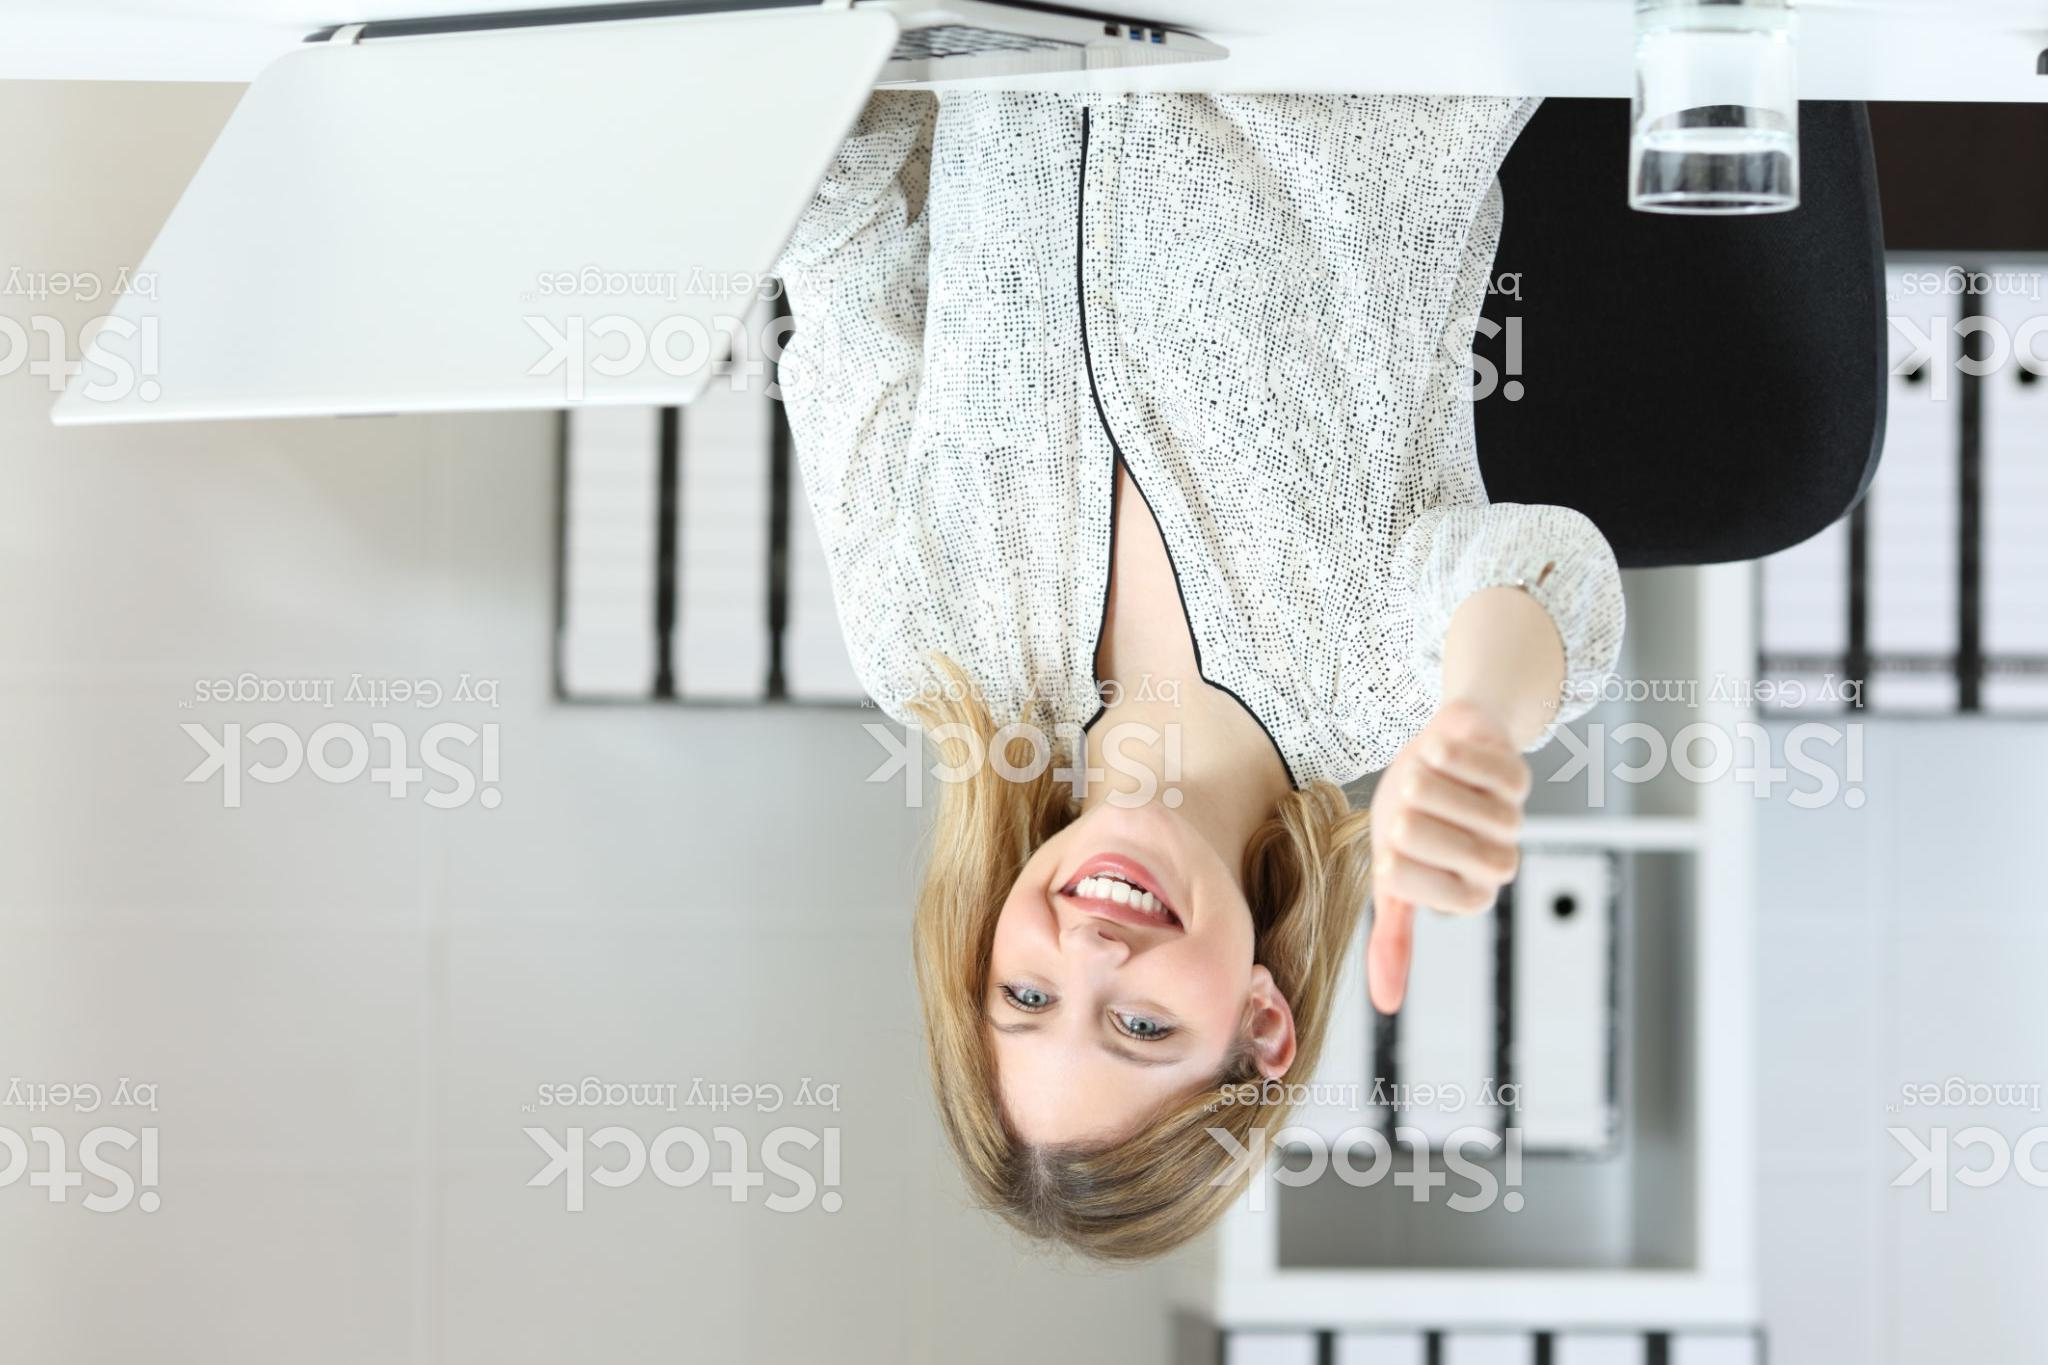thumbsdown: (1361, 711, 1536, 1018)
